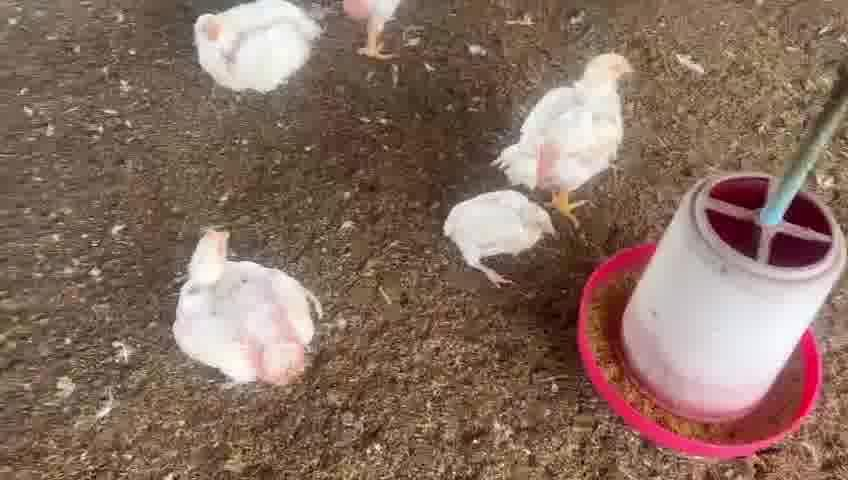AbNormal: (436, 174, 558, 303)
Normal: (154, 216, 368, 400), (491, 37, 640, 215), (175, 0, 336, 101)
